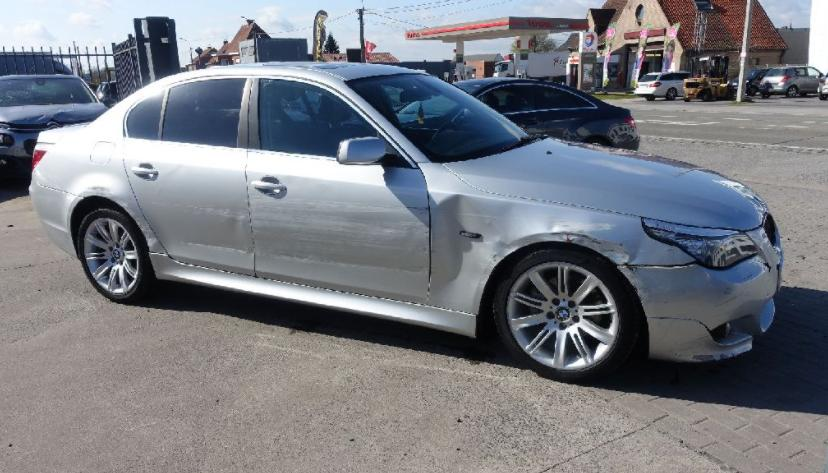Back-bumper: (30, 169, 83, 259)
Back-door: (124, 75, 254, 274)
Back-wheel: (77, 209, 154, 305)
Back-window: (127, 78, 246, 148)
Fender: (418, 162, 696, 314)
Front-bumper: (617, 212, 783, 363)
Front-door: (246, 76, 430, 305)
Front-wheel: (493, 247, 641, 382)
Front-window: (258, 79, 377, 160)
Headlight: (643, 217, 759, 269)
Hood: (442, 135, 768, 231)
Mirror: (337, 137, 386, 164)
Quarter-panel: (35, 126, 167, 253)
Rocker-panel: (149, 253, 477, 339)
Roof: (241, 61, 424, 80)
Tail-light: (32, 143, 55, 171)
Trunk: (37, 122, 92, 144)
Windshield: (346, 73, 531, 163)
